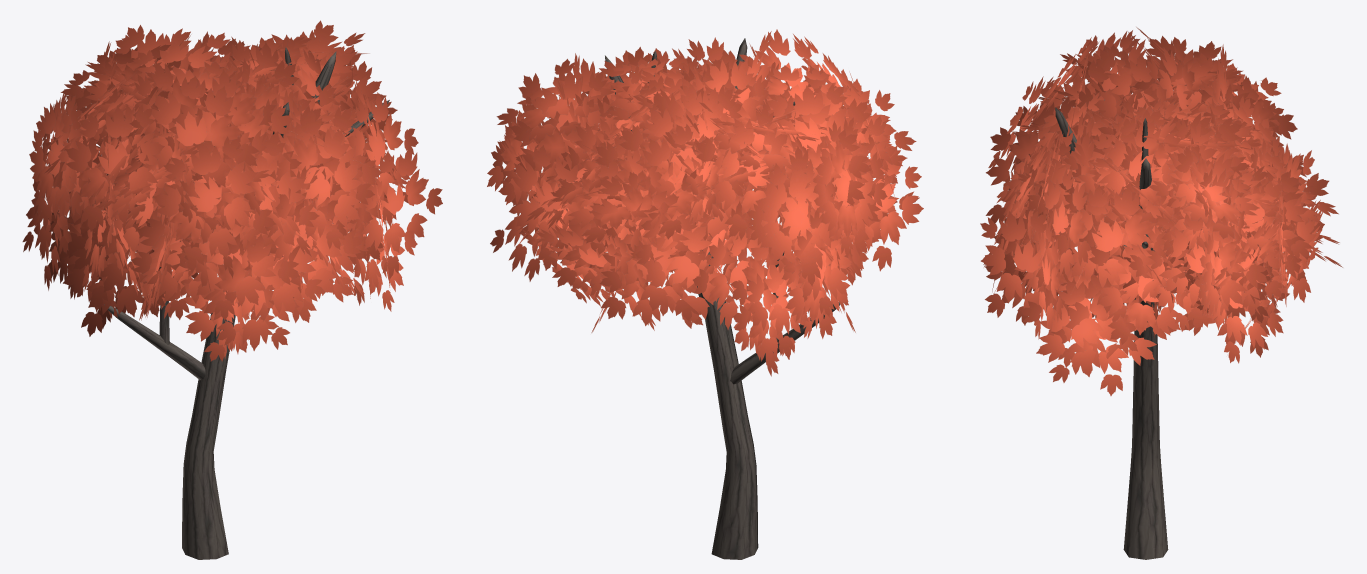
File: MapleTree_4.glb
The picture shows the model from 3 angles, left to right: view 1: azimuth 30°, elevation 25°; view 2: azimuth 150°, elevation 25°; view 3: azimuth 270°, elevation 25°; orthographic projection. The views are drawn at different scales.
Visible parts, largest first — view 1: MapleTree_4; view 2: MapleTree_4; view 3: MapleTree_4.
Part boxes in pixels (bbox=[...]): MapleTree_4: bbox=[22, 20, 442, 559]; MapleTree_4: bbox=[487, 29, 923, 559]; MapleTree_4: bbox=[980, 27, 1342, 559].
Size of the model in its own units: 2.77 by 3.59 by 2.44.
2 materials, 2 textured.
